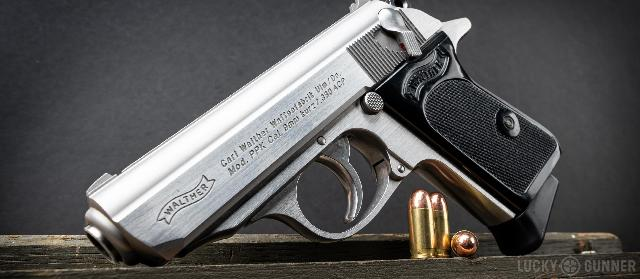handgun: (80, 1, 568, 272)
